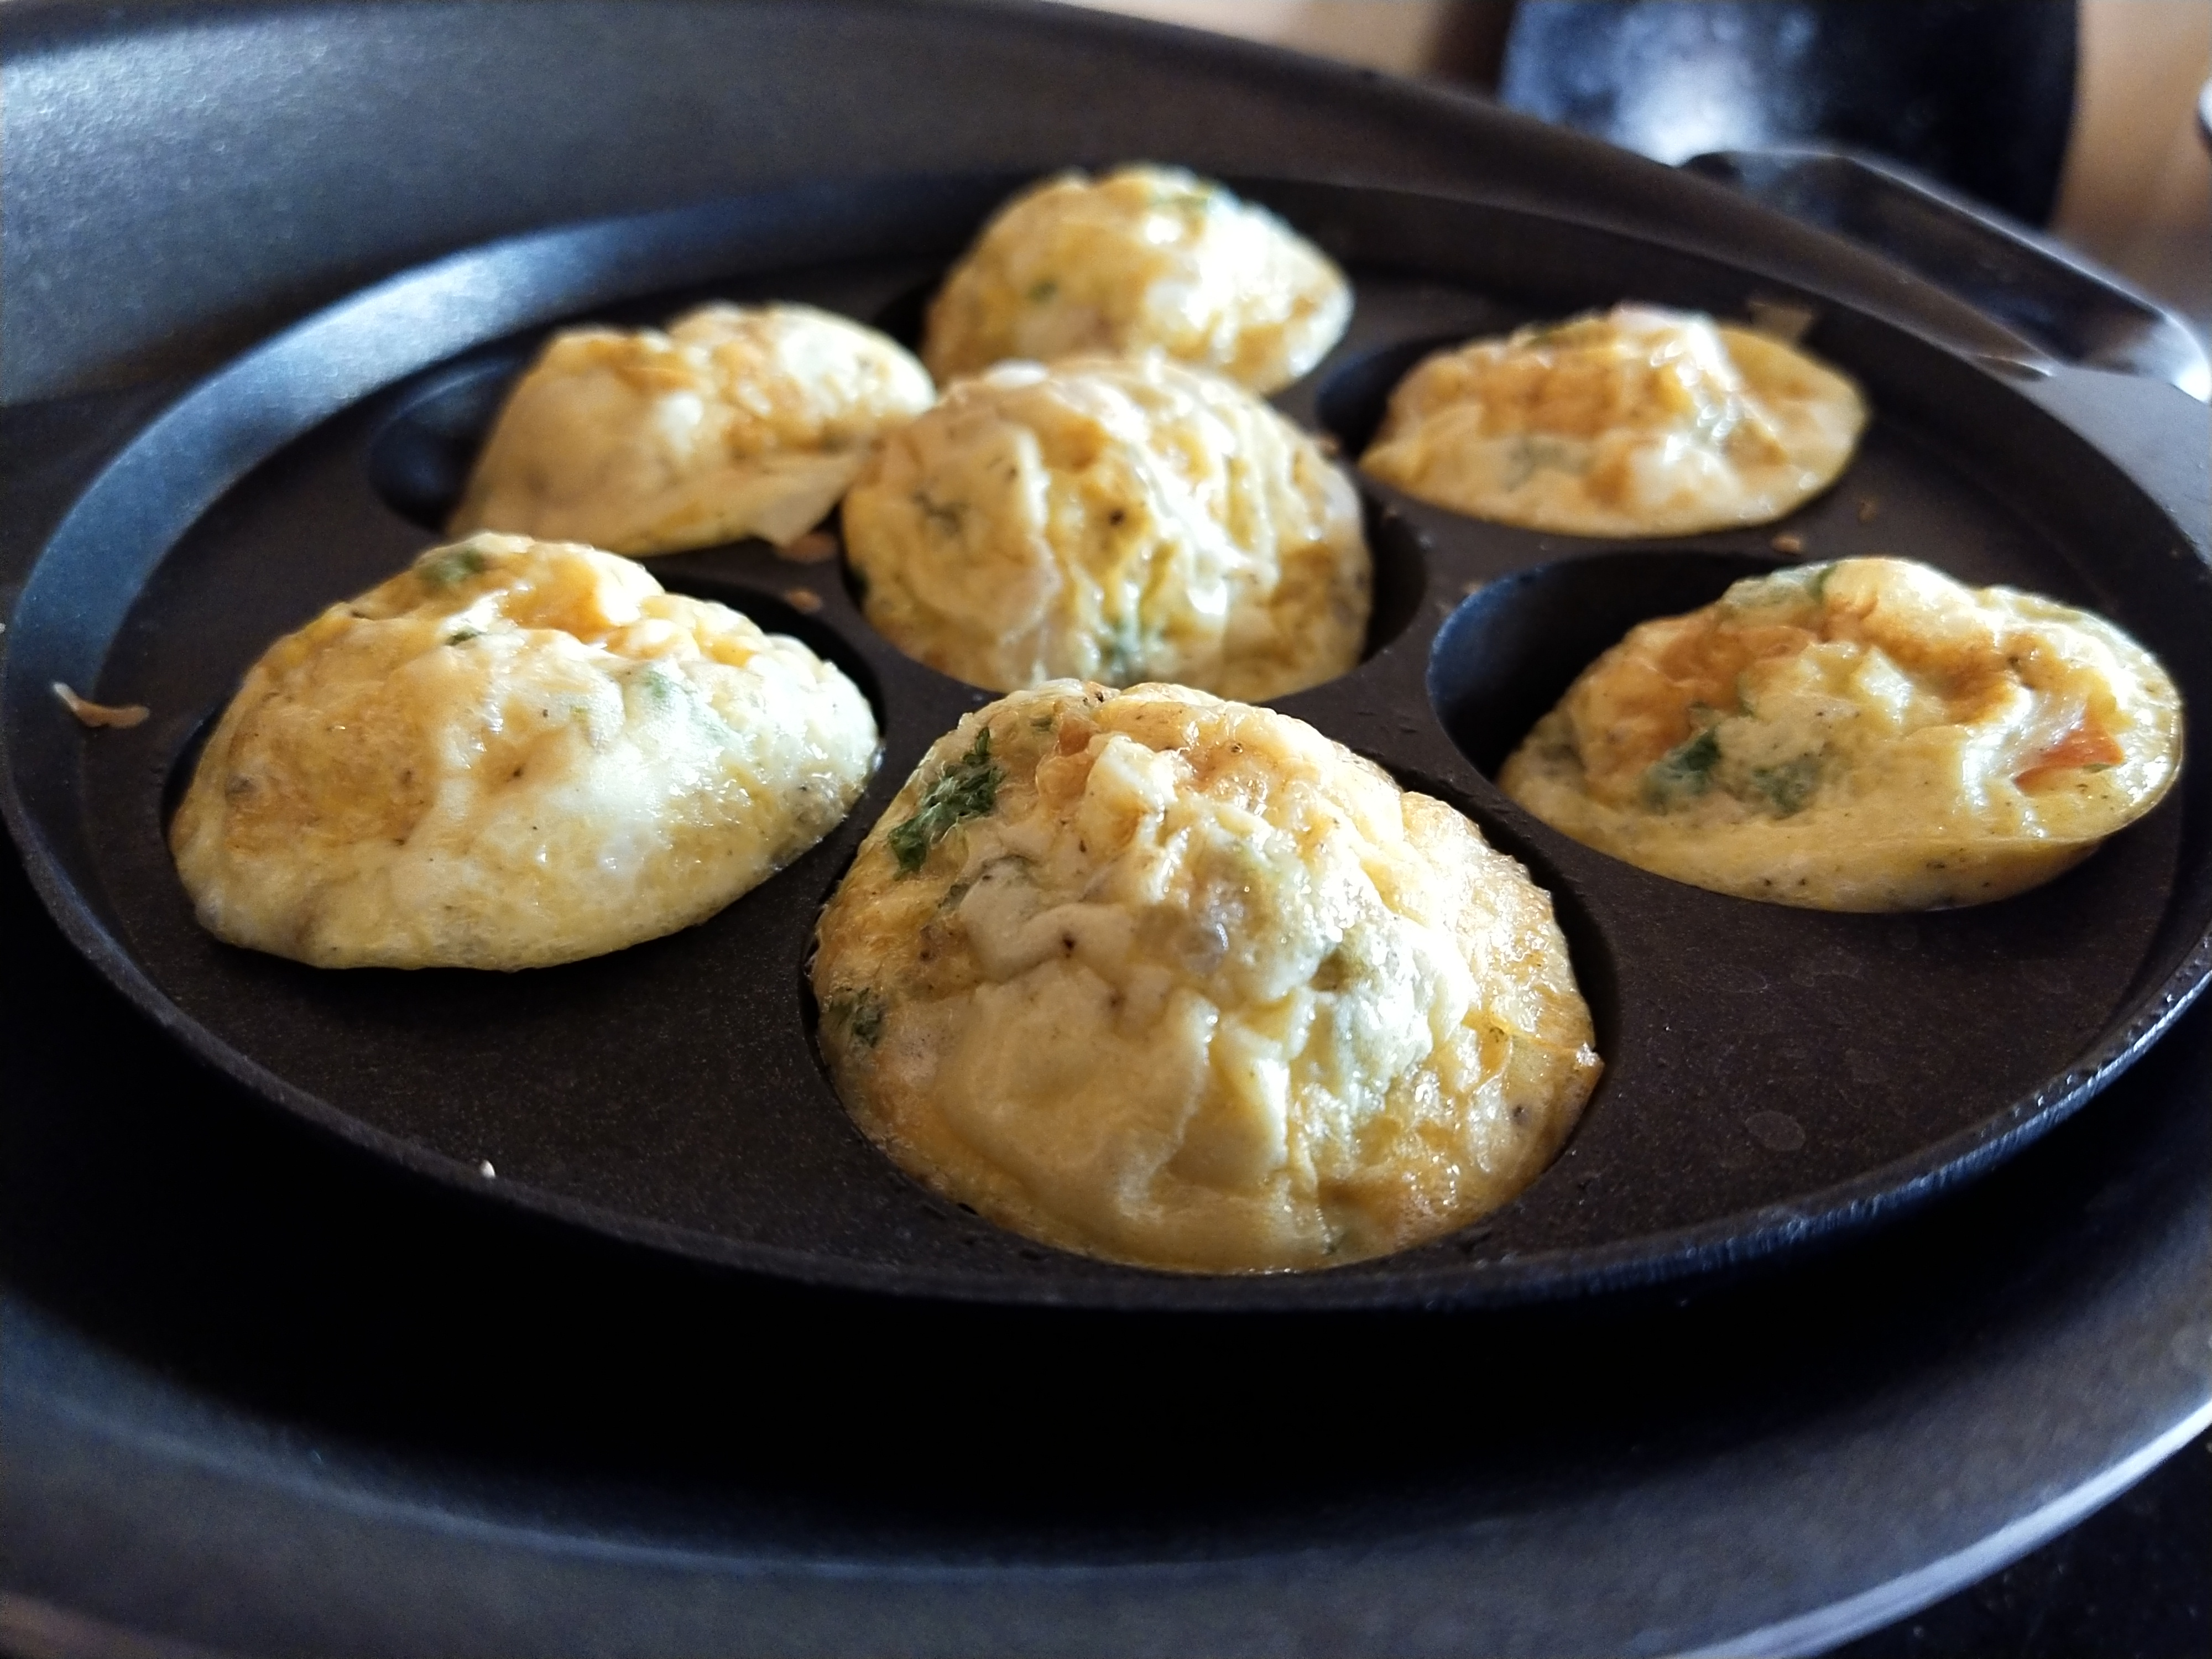food: (158, 145, 2193, 1281)
